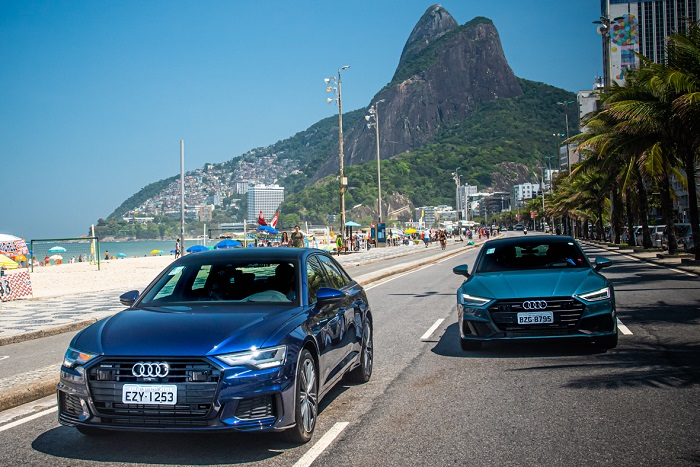car: (45, 245, 382, 444), (443, 229, 631, 354)
car_plate: (119, 380, 179, 409), (518, 310, 557, 324)
